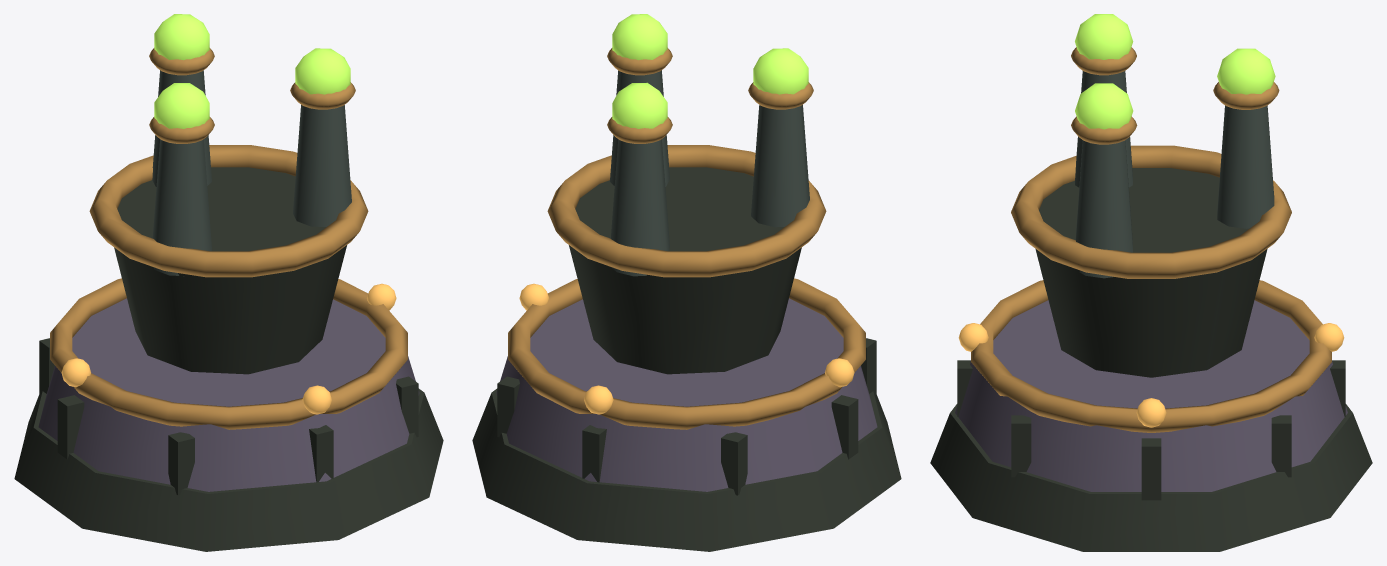
Rendered from tower_poison_poisonCauldron_ultimate.glb.
3 views of the same model, side by side, from view 1: azimuth 30°, elevation 25°; view 2: azimuth 150°, elevation 25°; view 3: azimuth 270°, elevation 25° (orthographic).
Visible parts, largest first — view 1: stone_1, vessel_15, foot_0, rim_2, vessel_lip_17, chimney_21, chimney_24, spore_23, spore_20, spore_26, mortar_6, mortar_7 (+10 smaller); view 2: stone_1, vessel_15, foot_0, rim_2, vessel_lip_17, chimney_24, chimney_18, spore_26, spore_23, spore_20, mortar_8, mortar_7 (+10 smaller); view 3: stone_1, vessel_15, foot_0, rim_2, vessel_lip_17, chimney_18, chimney_21, spore_23, spore_20, spore_26, mortar_3, mortar_4 (+10 smaller).
Part boxes in pixels (x1,y1,x2,y2): stone_1: (38,298,419,491); vessel_15: (114,167,346,374); foot_0: (14,388,443,551); rim_2: (50,278,407,429); vessel_lip_17: (89,145,368,277); chimney_21: (293,105,351,226); chimney_24: (152,139,211,276); spore_23: (295,48,350,94); spore_20: (154,14,209,60); spore_26: (154,83,209,128); mortar_6: (168,432,194,495); mortar_7: (57,395,84,459); stone_1: (496,298,877,491); vessel_15: (569,167,801,374); foot_0: (472,388,901,551); rim_2: (508,278,865,429); vessel_lip_17: (547,145,826,277); chimney_24: (751,105,809,227); chimney_18: (610,139,669,276); spore_26: (753,48,808,94); spore_23: (612,14,667,60); spore_20: (612,82,667,128); mortar_8: (721,432,747,495); mortar_7: (831,395,858,459); stone_1: (955,300,1347,491); vessel_15: (1035,168,1267,377); foot_0: (930,404,1372,551); rim_2: (971,280,1331,432); vessel_lip_17: (1011,145,1291,278); chimney_18: (1217,105,1274,228); chimney_21: (1075,140,1132,278); spore_23: (1075,83,1133,129); spore_20: (1217,48,1275,94); spore_26: (1075,14,1133,59); mortar_3: (1141,438,1161,500); mortar_4: (1011,415,1031,477).
Size of the model in its own units: 0.5326 by 0.577 by 0.56.
